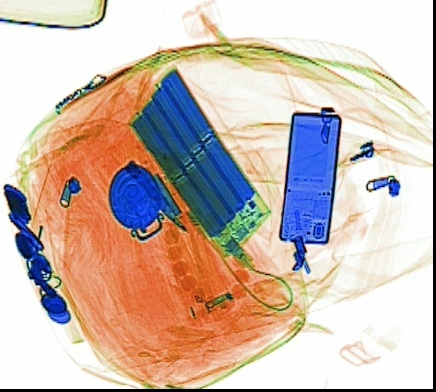powerbank: (124, 61, 272, 260)
